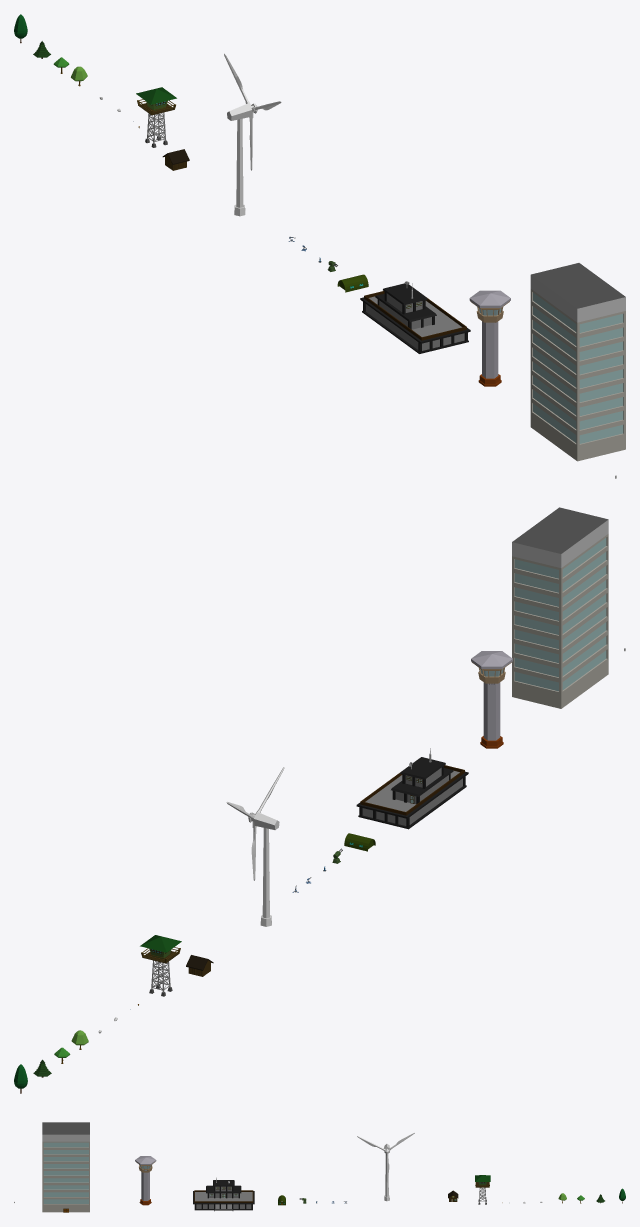
Rendered from Forest_and_MilitaryBase.fbx.
3 renders of one model, top to bottom at view 1: azimuth 30°, elevation 25°; view 2: azimuth 150°, elevation 25°; view 3: azimuth 270°, elevation 25°, orthographic. The views are drawn at different scales.
Parts seen in each view (by area): view 1: building, research_unity, watch_tower, windmill, park_ranger_tower; view 2: building, research_unity, watch_tower, windmill, park_ranger_tower; view 3: building, research_unity, watch_tower, windmill, park_ranger_tower.
Part boxes in pixels (x1,y1,x2,y2): building: (530, 263, 625, 461); research_unity: (360, 281, 470, 353); watch_tower: (469, 290, 510, 386); windmill: (224, 53, 281, 216); park_ranger_tower: (136, 87, 176, 147); building: (512, 507, 608, 708); research_unity: (356, 748, 468, 829); watch_tower: (471, 651, 512, 748); windmill: (226, 767, 284, 926); park_ranger_tower: (140, 935, 181, 996); building: (42, 1122, 89, 1212); research_unity: (193, 1177, 254, 1211); watch_tower: (135, 1156, 156, 1205); windmill: (357, 1132, 414, 1201); park_ranger_tower: (475, 1175, 490, 1204).
Size of the model in its own units: 2657 by 6503 by 46102.
